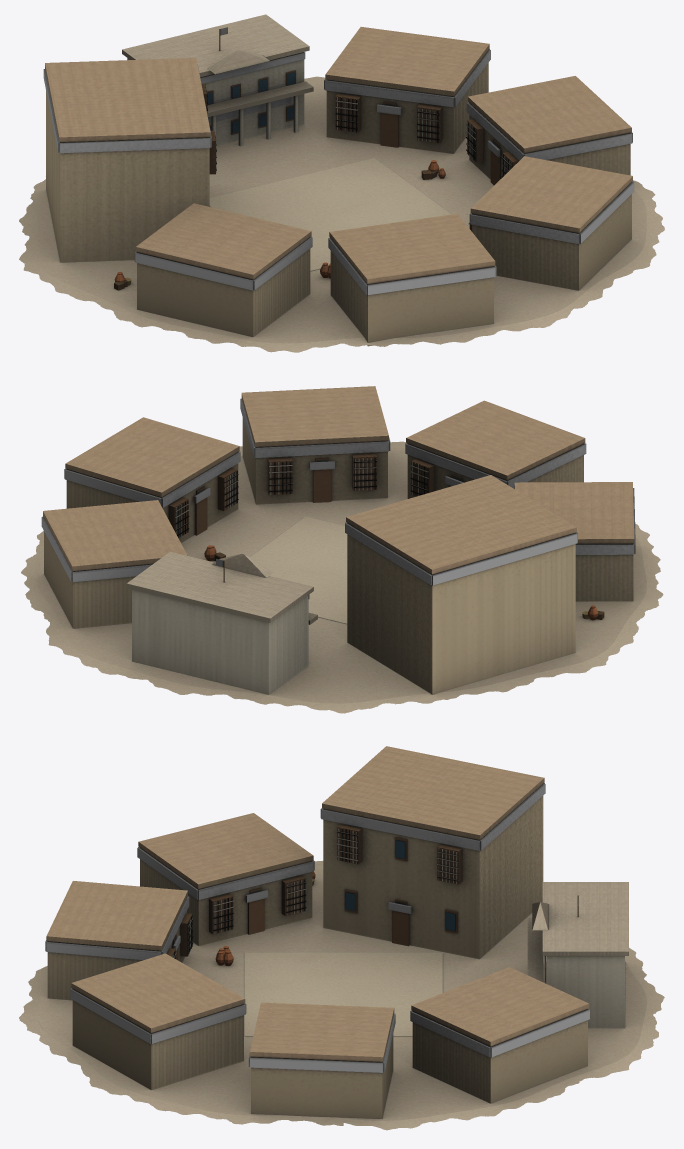
Rendered from gunpowder-town-small-a-nile.glb.
3 views of the same model, one above another, from view 1: azimuth 30°, elevation 25°; view 2: azimuth 150°, elevation 25°; view 3: azimuth 270°, elevation 25° (orthographic).
Visible parts, largest first — view 1: LOD0; view 2: LOD0; view 3: LOD0.
Boxes of the visible parts, left/top/right/bottom form: LOD0: left=19, top=14, right=664, bottom=352; LOD0: left=21, top=386, right=663, bottom=713; LOD0: left=19, top=746, right=664, bottom=1130.
Size of what is drawn, in the model's own units: 4 by 0.8632 by 3.98.
3 materials, 3 textured.
